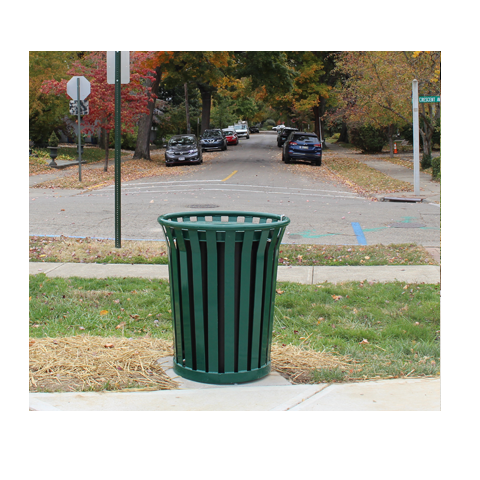Car: (277, 129, 328, 164), (161, 133, 205, 169), (198, 125, 229, 150)
TrashBin: (157, 209, 292, 382)
